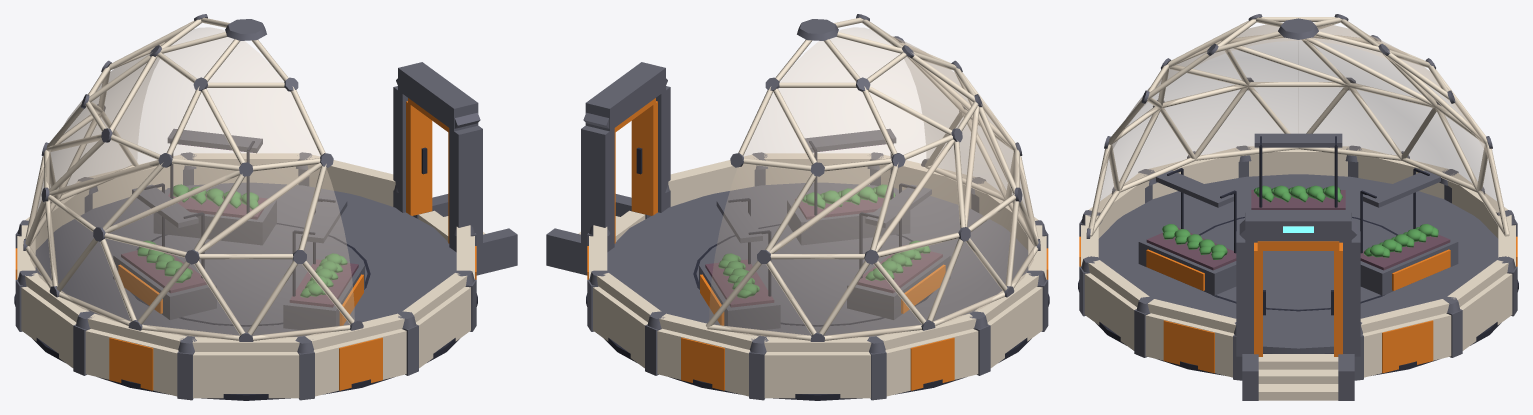
File: asset.glb
3 renders of one model, left to right at view 1: azimuth 30°, elevation 25°; view 2: azimuth 150°, elevation 25°; view 3: azimuth 270°, elevation 25°, orthographic. The views are drawn at different scales.
Parts seen in each view (by area): view 1: Mesh_RearDomeGlass, Mesh_InteriorFloor, Mesh_FloorCenterPad, Mesh_WallPanel_4, Mesh_PortalPost_L, Mesh_PortalLintel, Mesh_InnerOrangeJamb_R, Mesh_WallPanel_5, Mesh_WallPanel_6, Mesh_WallPanel_3, Mesh_WallPanel_2, Mesh_TrayBody_3 (+59 smaller); view 2: Mesh_RearDomeGlass, Mesh_InteriorFloor, Mesh_FloorCenterPad, Mesh_WallPanel_8, Mesh_PortalPost_R, Mesh_PortalLintel, Mesh_InnerOrangeJamb_L, Mesh_WallPanel_7, Mesh_WallPanel_6, Mesh_WallPanel_9, Mesh_WallPanel_10, Mesh_TrayBody_2 (+62 smaller); view 3: Mesh_RearDomeGlass, Mesh_InteriorFloor, Mesh_FloorCenterPad, Mesh_PortalLintel, Mesh_WallPanel_2, Mesh_WallPanel_10, Mesh_PortalPost_L, Mesh_PortalPost_R, Mesh_WallOrange_1, Mesh_WallOrange_11, Mesh_WallPanel_1, Mesh_WallPanel_11 (+59 smaller).
Boxes of the visible parts, x1,y1,x2,y2 form: Mesh_RearDomeGlass: (29,27,354,338); Mesh_InteriorFloor: (35,182,456,336); Mesh_FloorCenterPad: (153,224,367,325); Mesh_WallPanel_4: (193,352,299,398); Mesh_PortalPost_L: (449,125,482,252); Mesh_PortalLintel: (398,62,478,131); Mesh_InnerOrangeJamb_R: (406,101,432,215); Mesh_WallPanel_5: (85,329,178,396); Mesh_WallPanel_6: (21,286,76,367); Mesh_WallPanel_3: (314,328,406,396); Mesh_WallPanel_2: (416,286,470,368); Mesh_TrayBody_3: (153,188,276,245); Mesh_RearDomeGlass: (709,27,1033,338); Mesh_InteriorFloor: (607,182,1028,336); Mesh_FloorCenterPad: (696,224,910,325); Mesh_WallPanel_8: (764,352,870,398); Mesh_PortalPost_R: (581,125,614,252); Mesh_PortalLintel: (585,62,665,131); Mesh_InnerOrangeJamb_L: (631,101,657,215); Mesh_WallPanel_7: (885,329,978,396); Mesh_WallPanel_6: (987,286,1042,367); Mesh_WallPanel_9: (657,328,749,396); Mesh_WallPanel_10: (593,286,647,368); Mesh_TrayBody_2: (787,188,910,245); Mesh_RearDomeGlass: (1092,24,1504,219); Mesh_InteriorFloor: (1098,174,1498,353); Mesh_FloorCenterPad: (1200,218,1396,309); Mesh_PortalLintel: (1245,210,1351,242); Mesh_WallPanel_2: (1084,273,1136,350); Mesh_WallPanel_10: (1460,273,1512,350); Mesh_PortalPost_L: (1236,231,1253,356); Mesh_PortalPost_R: (1343,231,1360,356); Mesh_WallOrange_1: (1163,320,1214,373); Mesh_WallOrange_11: (1382,320,1433,373); Mesh_WallPanel_1: (1145,313,1234,377); Mesh_WallPanel_11: (1362,313,1451,377).
Bounding box in the file's own units: 6.57 × 3.92 × 5.96.
